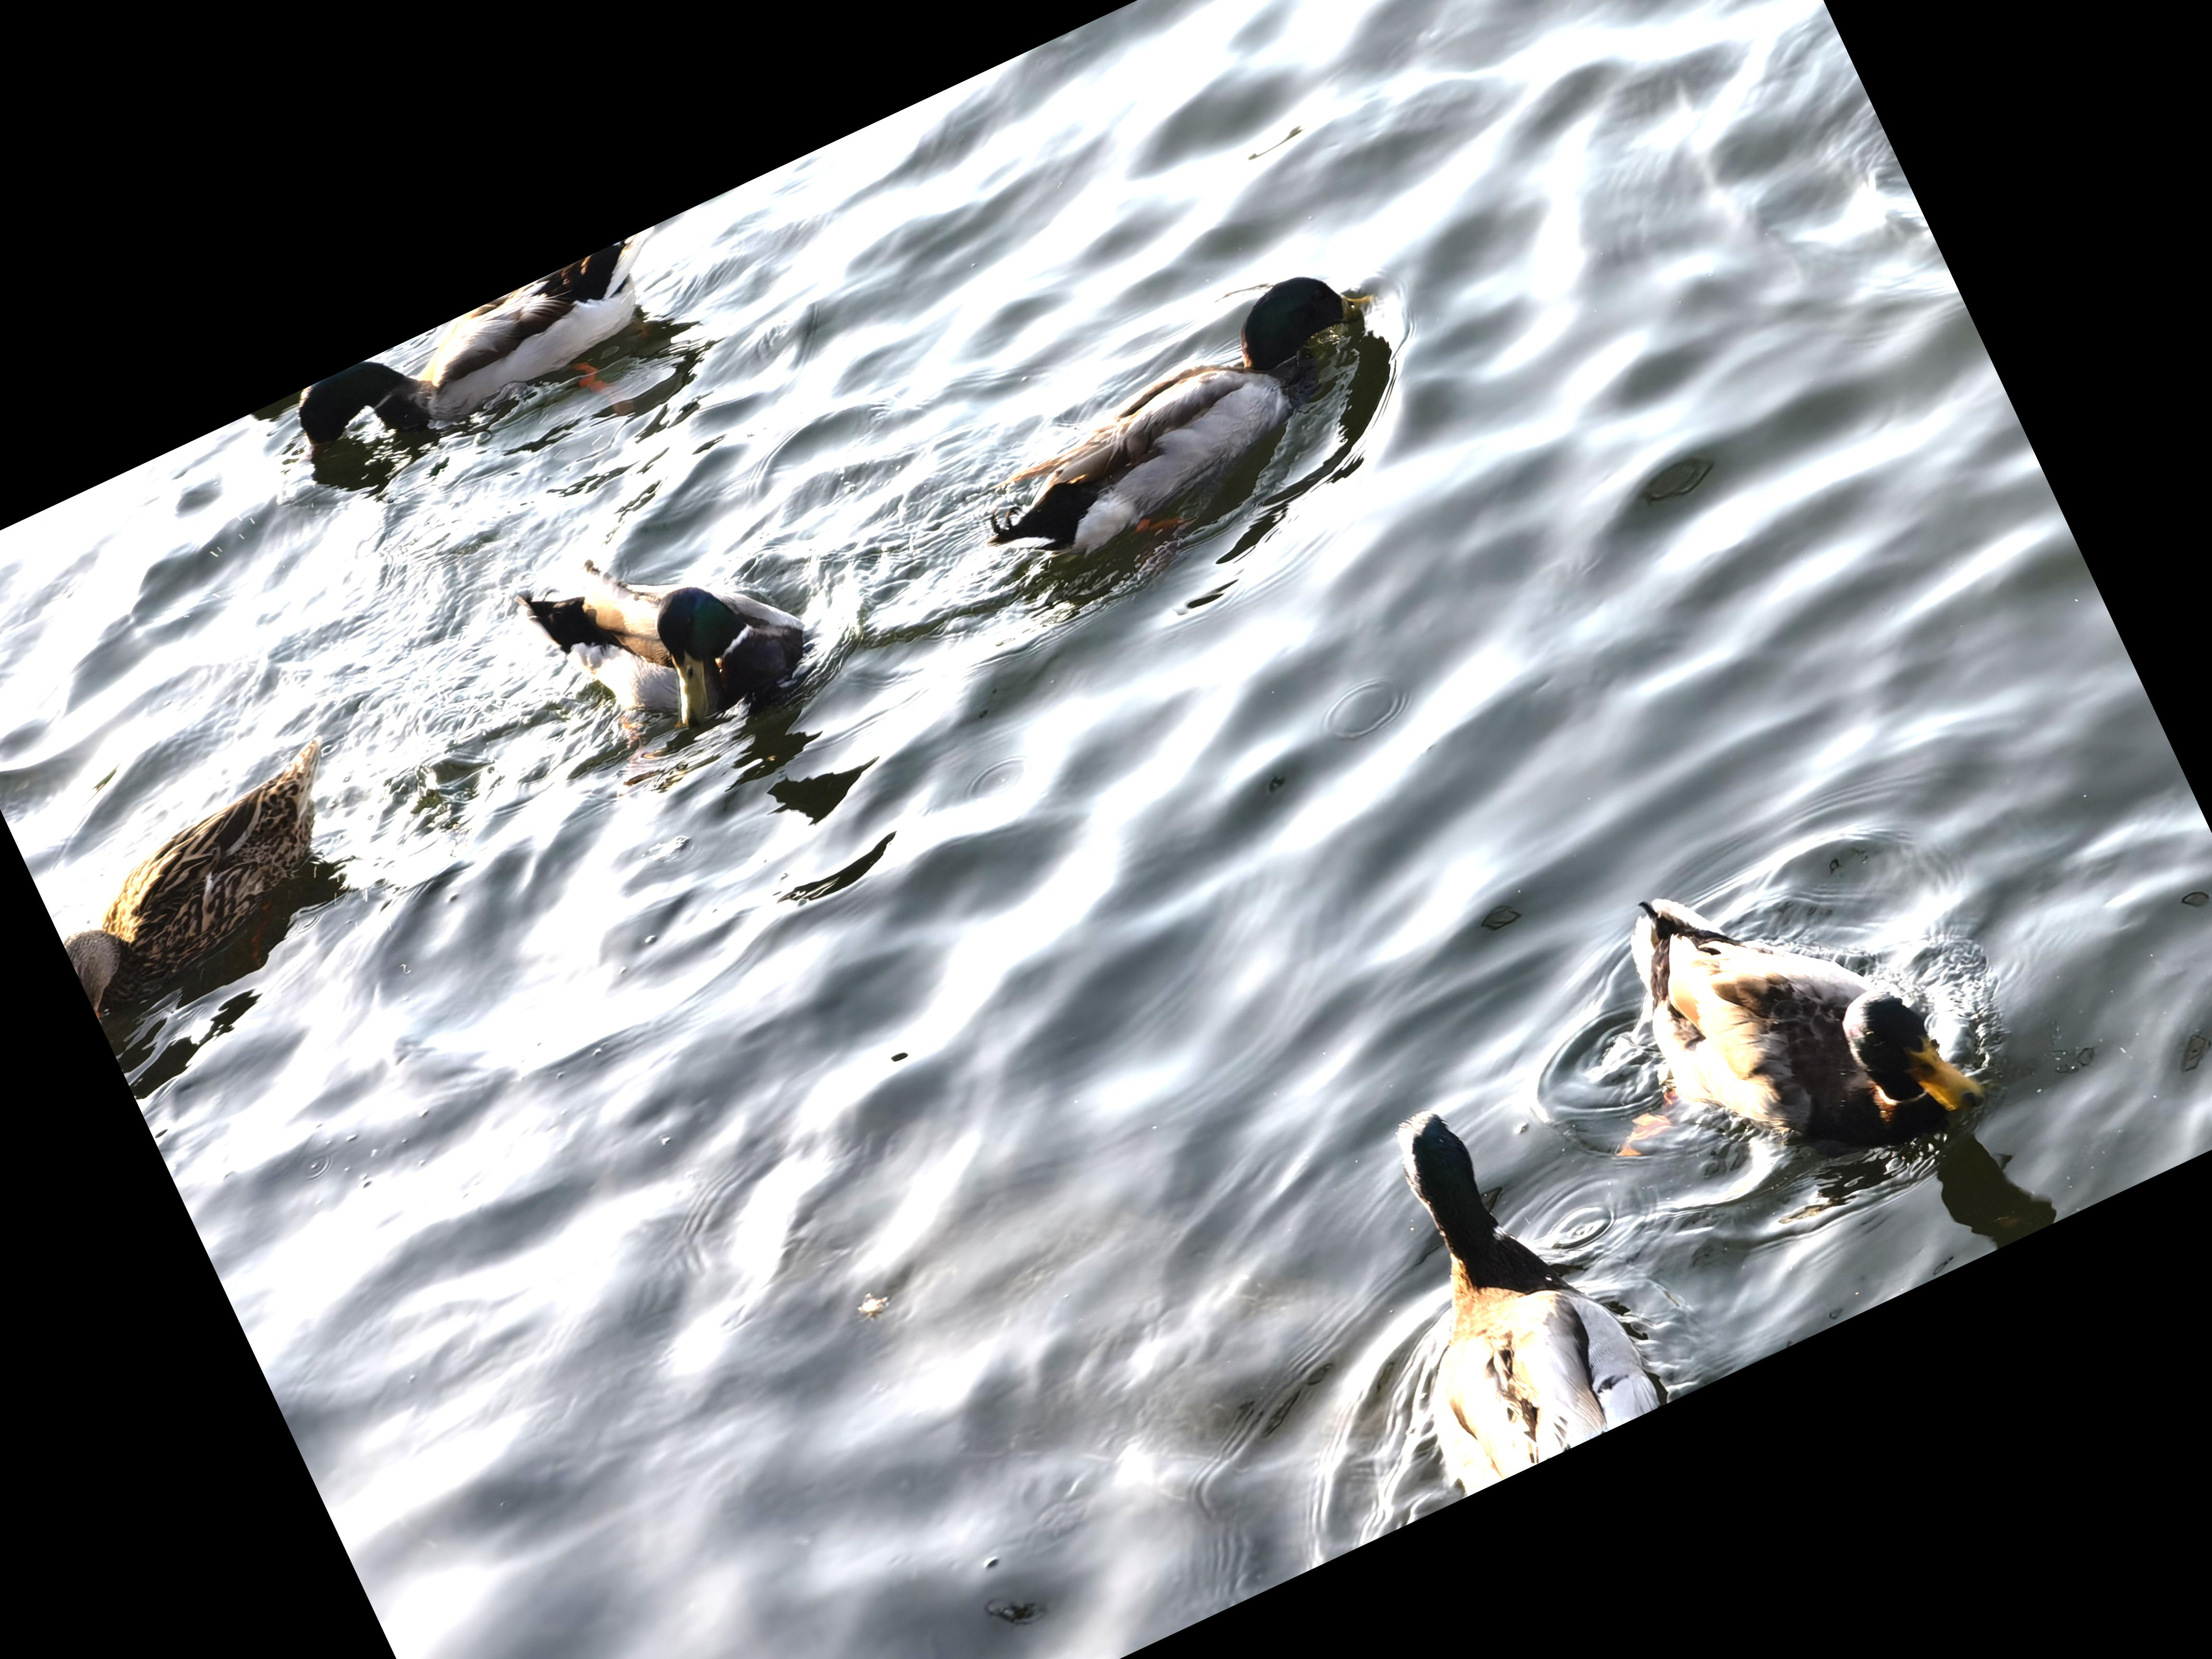duck: (1566, 775, 2038, 1241), (1263, 1049, 1679, 1516), (939, 228, 1456, 591), (275, 225, 730, 563), (10, 687, 420, 1040), (486, 472, 836, 786)
